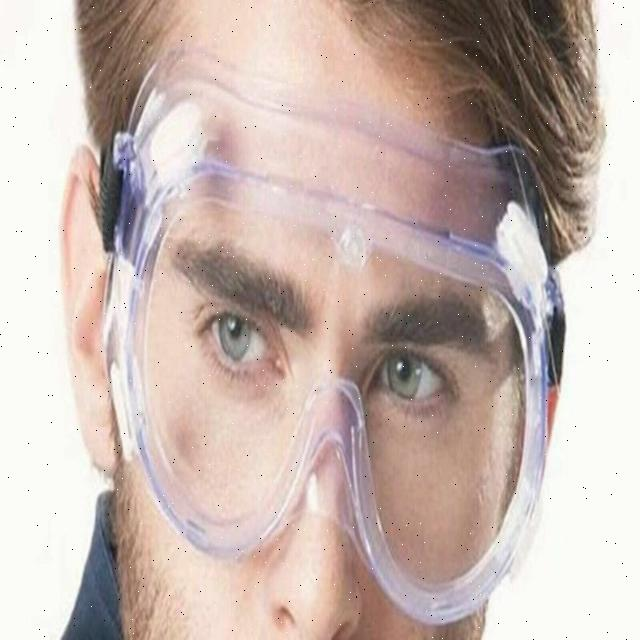goggles_on: (95, 52, 574, 636)
